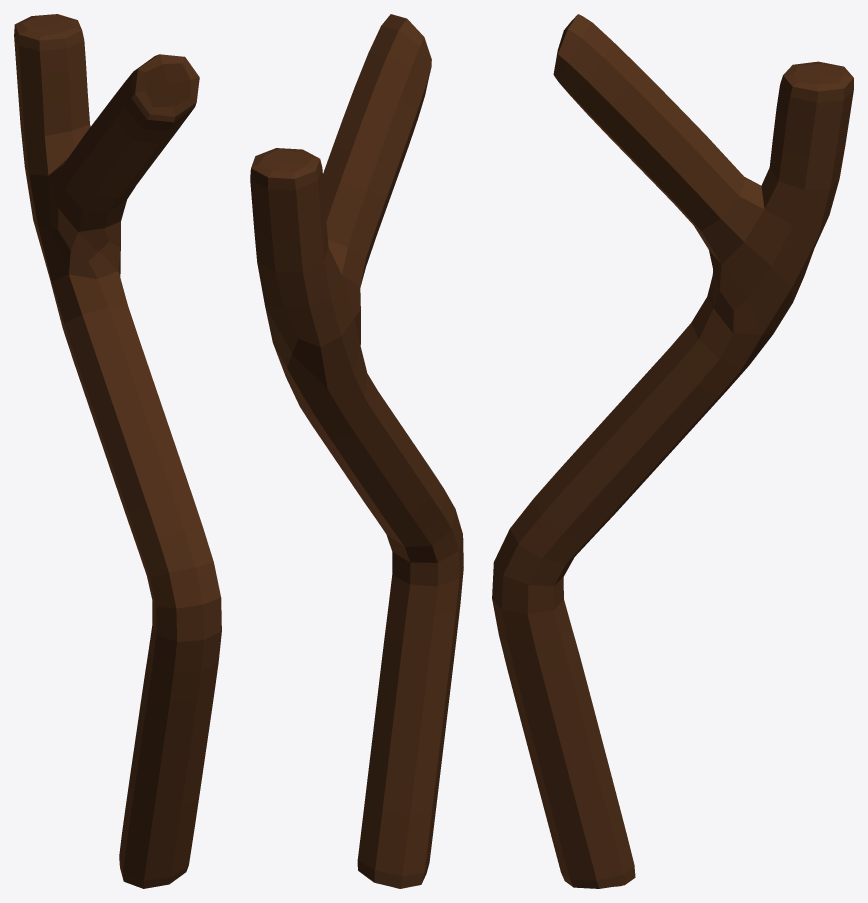
The model's file is Stick_2.fbx.
3 views of the same model, side by side, from view 1: azimuth 30°, elevation 25°; view 2: azimuth 150°, elevation 25°; view 3: azimuth 270°, elevation 25° (orthographic). The views are drawn at different scales.
Parts seen in each view (by area): view 1: Cube; view 2: Cube; view 3: Cube.
Boxes of the visible parts, left/top/right/bottom form: Cube: left=14, top=14, right=221, bottom=888; Cube: left=250, top=14, right=463, bottom=888; Cube: left=492, top=14, right=853, bottom=888.
Bounding box in the file's own units: 48.29 × 593 × 224.
